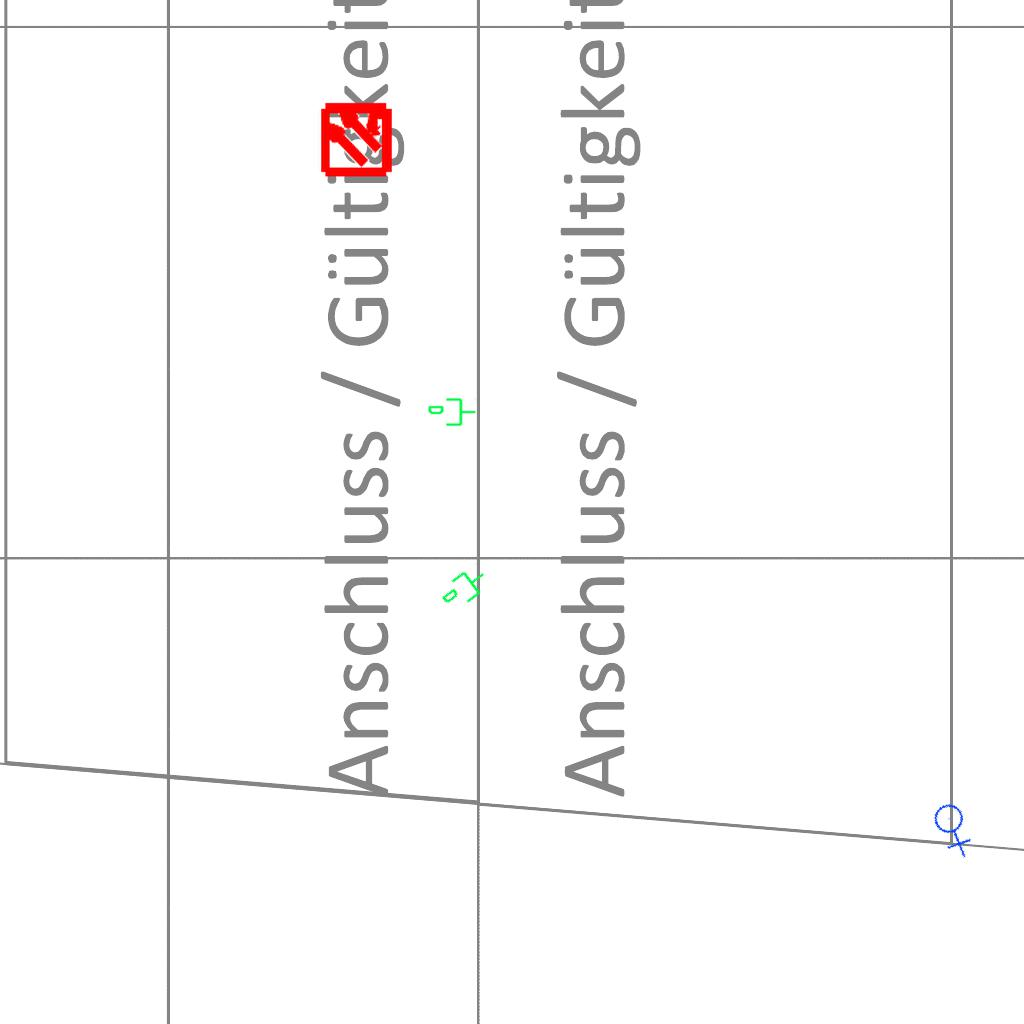Datenanschluss_einfach: (434, 560, 496, 618), (427, 396, 477, 430)
Elektroanschluss_allgemein_230V_Geraeteanschlussdose_230V: (923, 795, 986, 860)
OT_Multisensormelder_(Kombination_RMO_WMD): (300, 81, 413, 194)
